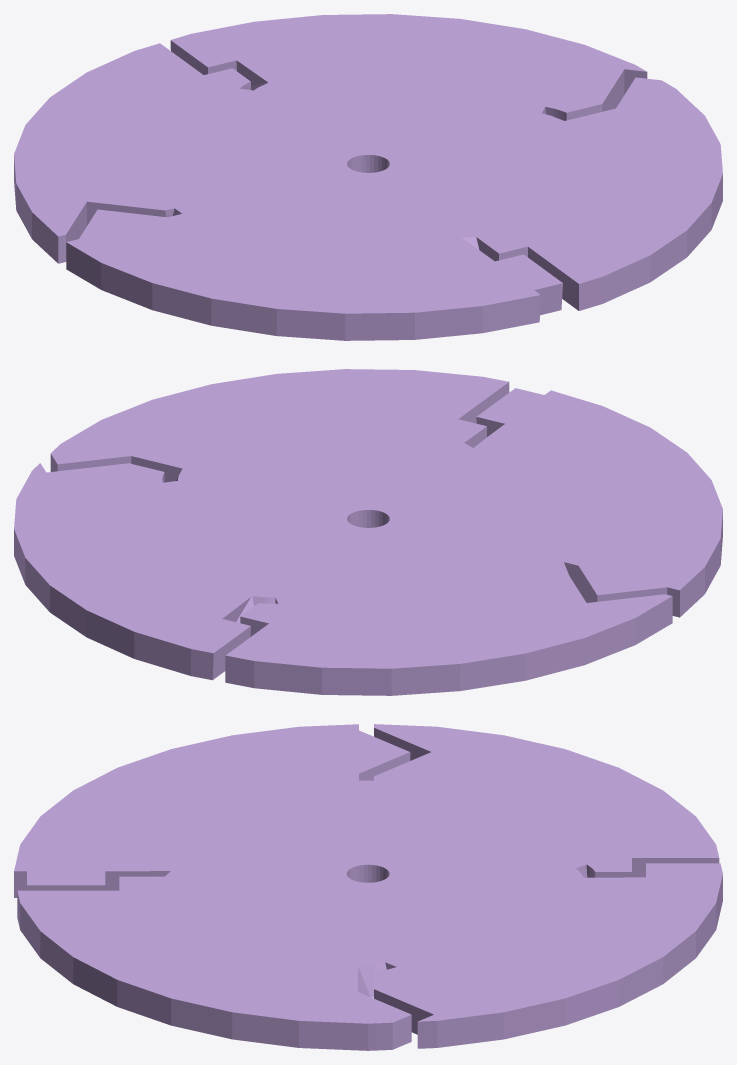
Rendered from lower_disk.glb.
The picture shows the model from 3 angles, top to bottom: view 1: azimuth 30°, elevation 25°; view 2: azimuth 150°, elevation 25°; view 3: azimuth 270°, elevation 25°; orthographic projection.
Parts seen in each view (by area): view 1: lower Disk; view 2: lower Disk; view 3: lower Disk.
Boxes of the visible parts, x1,y1,x2,y2 form: lower Disk: (14,14,722,340); lower Disk: (14,369,722,695); lower Disk: (14,724,722,1050).
Bounding box in the file's own units: 1.13 × 0.0479 × 1.13.
